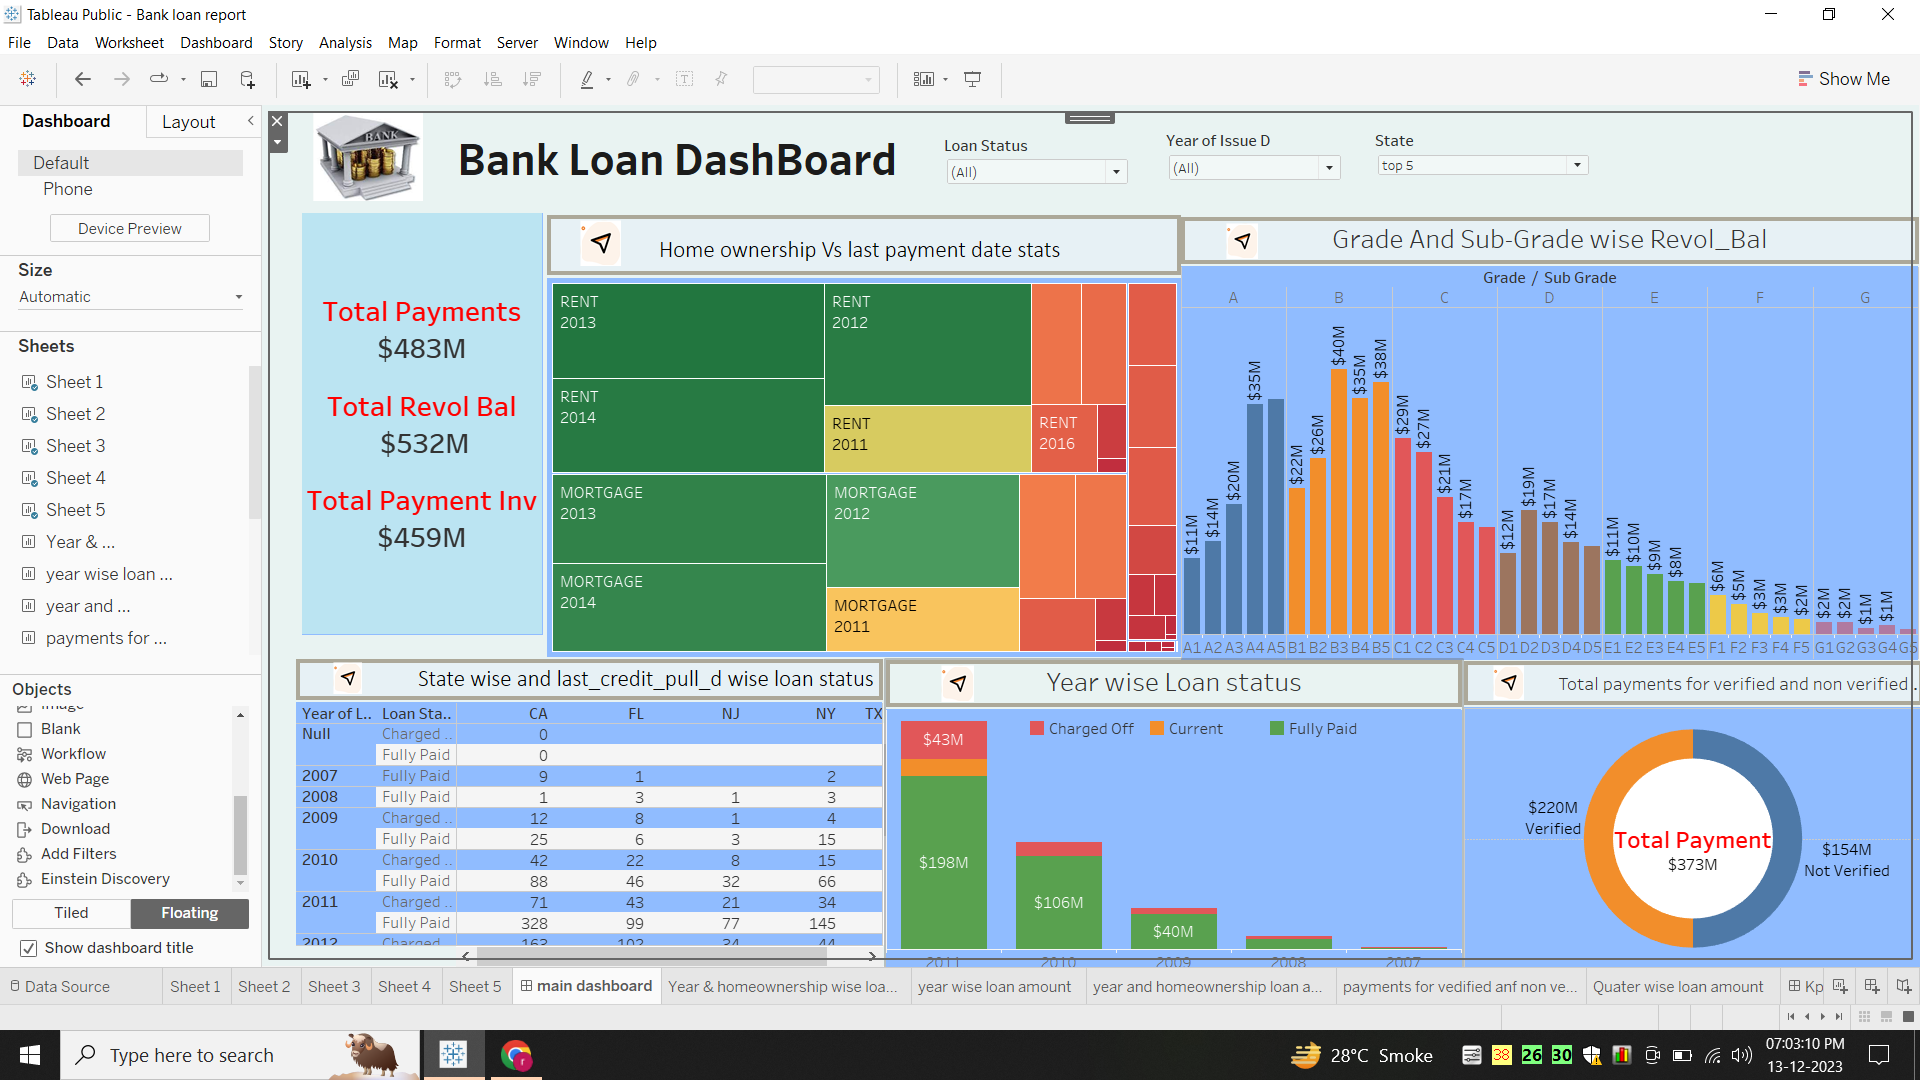

This screenshot's page, from the dashboard's own definition file:
{"tool":"tableau","page":{"name":"main dashboard","canvas":[1000,1000],"units":"permille","ordinal":5},"visuals":[{"type":"image","param":"Image/bank image.jpeg","box":[30.8,7,66.4,105.7]},{"type":"text","box":[115.9,8.1,269.8,104.5]},{"type":"text","box":[4.8,9.3,990.3,981.4]},{"type":"filter","title":"Sheet 2","param":"[federated.06s9tm3165sf39151pg6807wf26h].[yr:issue_d:ok]","box":[545.6,29,107.4,63.9]},{"type":"parameter","param":"[Parameters].[Parameter 1]","box":[671.7,29,131,75.5]},{"type":"filter","title":"Sheet 2","param":"[federated.06s9tm3165sf39151pg6807wf26h].[none:loan_status:nk]","box":[411.6,34.8,112.9,59.2]},{"type":"worksheet","title":"total","mark":"Automatic","box":[24.1,125.4,146.7,507.6]},{"type":"worksheet","title":"Sheet 5","mark":"Automatic","box":[172,127.8,382.6,513.4]},{"type":"worksheet","title":"Sheet 2","mark":"Automatic","rows":["revol_bal"],"cols":["grade","sub_grade"],"box":[554.6,130.1,445.4,514.5]},{"type":"dashboard-object","box":[178.6,133.6,51.3,53.4]},{"type":"dashboard-object","box":[564.3,137.1,54.9,41.8]},{"type":"worksheet","title":"Sheet 4","mark":"Automatic","rows":["last_credit_pull_d","loan_status"],"cols":["addr_state"],"box":[20.5,643.4,366.9,357.7]},{"type":"worksheet","title":"Sheet 3","mark":"Pie","rows":["Calculation_644859203898187776","Calculation_644859203898187776"],"box":[725.4,645.8,277,358.9]},{"type":"dashboard-object","box":[24.7,646.9,54.3,37.2]},{"type":"dashboard-object","box":[389.3,650.4,60.4,43]},{"type":"dashboard-object","box":[729.6,650.4,45.3,40.6]},{"type":"legend","title":"Sheet 1","param":"[federated.06s9tm3165sf39151pg6807wf26h].[none:loan_status:nk]","box":[461.7,712,246.8,32.5]}]}

Visuals, with their boxes on the dashboard's canvas, which has no fixed pixel size, in thousandths of its width and height (x1, y1, x2, y2). These are canvas units, not pixel positions in the 1920x1080 screenshot, which may show the page scaled, cropped or inside an application window:
image: [31, 7, 97, 113]
text: [116, 8, 386, 113]
text: [5, 9, 995, 991]
"Sheet 2" filter: [546, 29, 653, 93]
parameter: [672, 29, 803, 104]
"Sheet 2" filter: [412, 35, 524, 94]
"total" worksheet: [24, 125, 171, 633]
"Sheet 5" worksheet: [172, 128, 555, 641]
"Sheet 2" worksheet: [555, 130, 1000, 645]
dashboard-object: [179, 134, 230, 187]
dashboard-object: [564, 137, 619, 179]
"Sheet 4" worksheet: [20, 643, 387, 1001]
"Sheet 3" worksheet (Pie marks): [725, 646, 1002, 1005]
dashboard-object: [25, 647, 79, 684]
dashboard-object: [389, 650, 450, 693]
dashboard-object: [730, 650, 775, 691]
"Sheet 1" legend: [462, 712, 708, 744]
